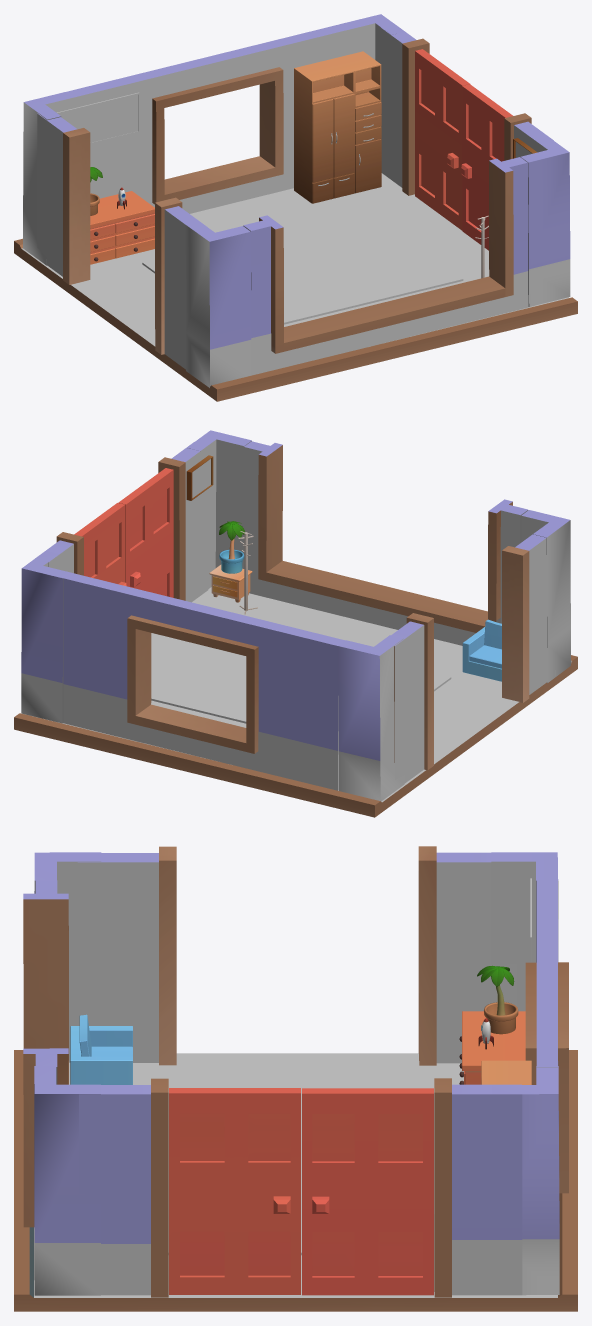
The model's file is ENTRADA.fbx.
The picture shows the model from 3 angles, top to bottom: view 1: azimuth 30°, elevation 25°; view 2: azimuth 150°, elevation 25°; view 3: azimuth 270°, elevation 25°; orthographic projection. The views are drawn at different scales.
Visible parts, largest first — view 1: suelo15, paret_ventana10, paret_con_ventana_grande29, fombra14, armario5, paret_esquina_99, paret_con_borde17, puerta_dob_5, paret_esquina45, paret_doblepuerta4, paret_con_borde19, puerta_dob__4 (+4 smaller); view 2: paret_ventana10, suelo15, paret_con_ventana_grande29, paret_esquina_98, paret_con_borde19, paret_esquina43, paret_con_borde17, paret_doblepuerta4, fombra14, puerta_dob__4, paret_esquina_99, paret_esquina45 (+5 smaller); view 3: paret_doblepuerta4, puerta_dob_5, puerta_dob__4, suelo15, paret_con_borde19, paret_con_borde17, paret_esquina45, paret_con_ventana_grande29, paret_esquina43, paret_ventana10, paret_esquina_98, sillon4 (+4 smaller).
Part boxes in pixels (x1,y1,x2,y2): suelo15: (14, 173, 577, 401); paret_ventana10: (65, 24, 349, 213); paret_con_ventana_grande29: (243, 157, 528, 375); fombra14: (142, 208, 463, 324); armario5: (294, 51, 381, 203); paret_esquina_99: (185, 221, 251, 387); paret_con_borde17: (37, 113, 90, 284); puerta_dob_5: (415, 49, 469, 230); paret_esquina45: (520, 135, 570, 306); paret_doblepuerta4: (380, 27, 553, 195); paret_con_borde19: (155, 197, 203, 374); puerta_dob__4: (461, 84, 512, 250); paret_ventana10: (61, 572, 345, 790); suelo15: (14, 587, 577, 817); paret_con_ventana_grande29: (243, 441, 528, 645); paret_esquina_98: (338, 635, 404, 801); paret_con_borde19: (502, 529, 555, 702); paret_esquina43: (21, 551, 68, 723); paret_con_borde17: (391, 613, 433, 783); paret_doblepuerta4: (46, 442, 208, 602); fombra14: (151, 644, 451, 723); puerta_dob__4: (118, 468, 173, 597); paret_esquina_99: (521, 510, 570, 683); paret_esquina45: (187, 430, 251, 588); paret_doblepuerta4: (79, 1078, 522, 1297); puerta_dob_5: (302, 1088, 433, 1295); puerta_dob__4: (169, 1088, 300, 1294); suelo15: (14, 1050, 577, 1311); paret_con_borde19: (77, 846, 176, 1065); paret_con_borde17: (418, 846, 517, 1065); paret_esquina45: (34, 1066, 100, 1295); paret_con_ventana_grande29: (23, 880, 68, 1227); paret_esquina43: (492, 1066, 559, 1295); paret_ventana10: (525, 880, 568, 1193); paret_esquina_98: (491, 852, 558, 1011); sillon4: (70, 1014, 132, 1084).
Bounding box in the file's own units: 878 × 363 × 841.
